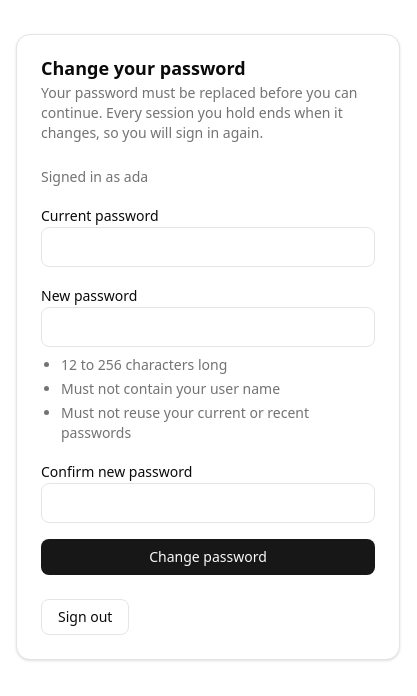
Test: ChangePassword › shows a persistent CSRF rejection as a token problem, clears the fields and echoes neither value
The image size is (417, 696).
Type "Current-Value-4f81" into the password field labelled "Current password". click: (208, 247)
box: left=41, top=227, right=375, bottom=267
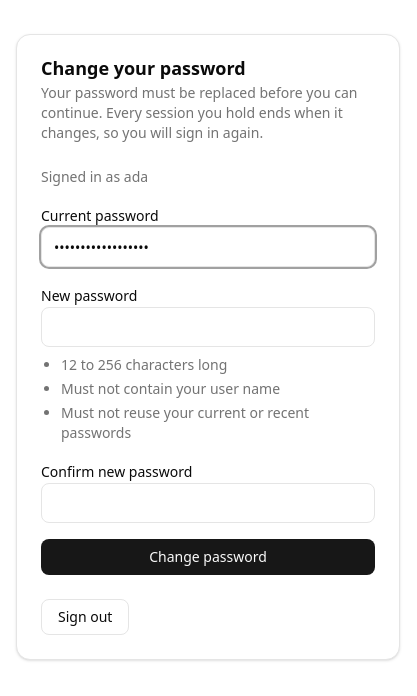
Type "Next-Value-9c2e-long" into the password field labelled "New password". click: (208, 327)
box: left=41, top=307, right=375, bottom=347
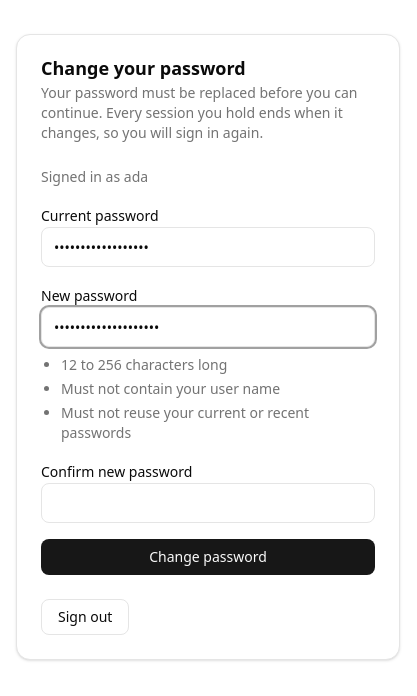
Type "Next-Value-9c2e-long" into the password field labelled "Confirm new password". click: (208, 503)
box: left=41, top=483, right=375, bottom=523
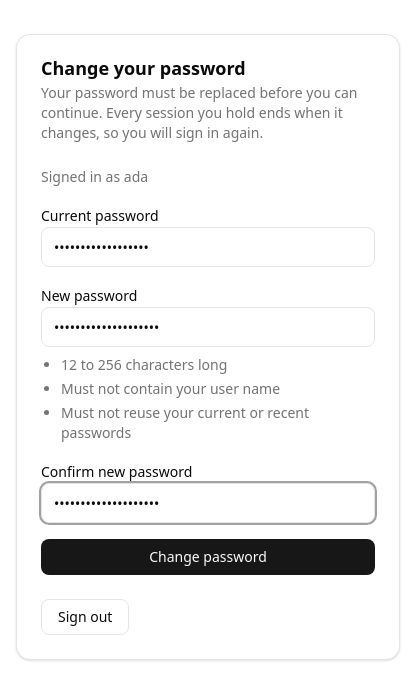
Click the button "Change password". click: click(208, 557)
box: left=41, top=539, right=375, bottom=575
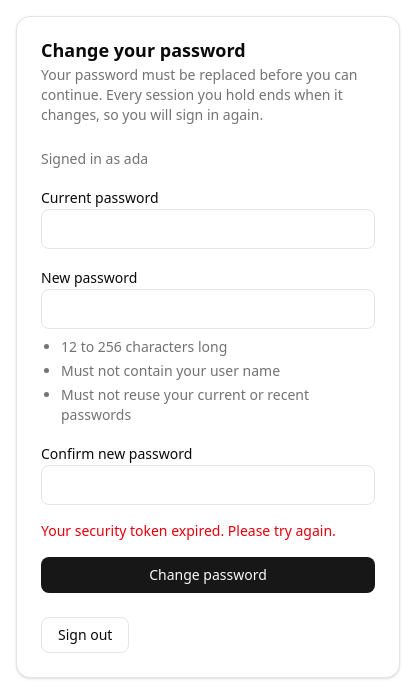
Check: the message reads "Your security token expired. Please try again.", box left=41, top=521, right=336, bottom=540
Check: the password field labelled "Current password" is empty, box left=41, top=209, right=375, bottom=249
Check: the password field labelled "New password" is empty, box left=41, top=289, right=375, bottom=329
